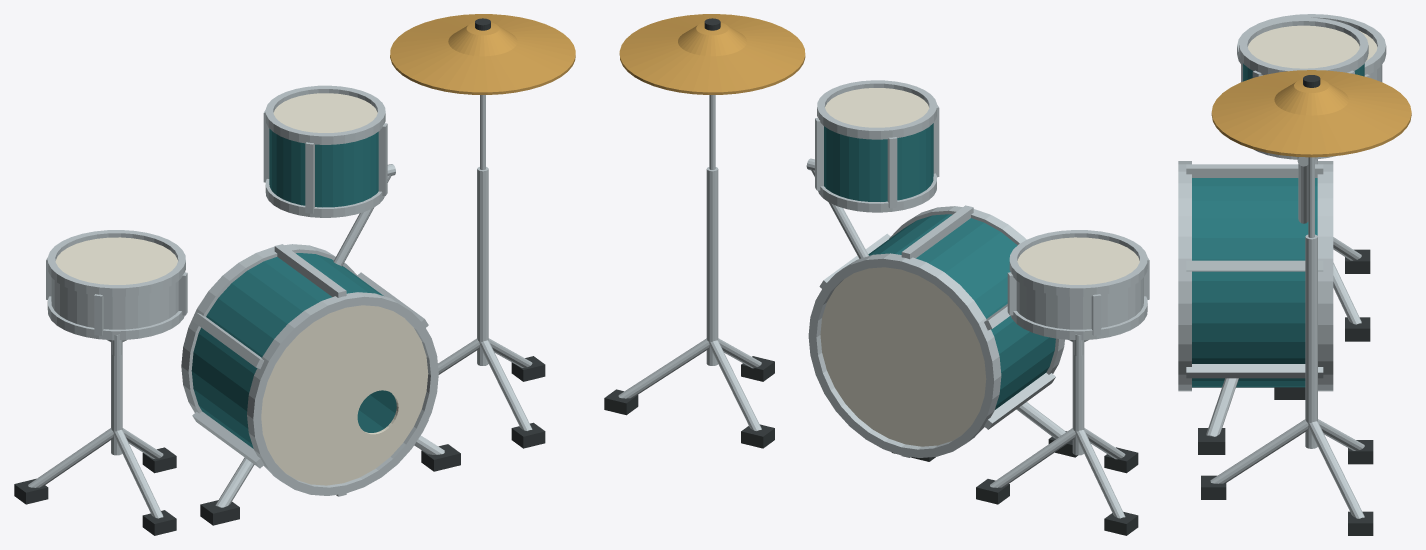
3 renders of one model, left to right at view 1: azimuth 30°, elevation 25°; view 2: azimuth 150°, elevation 25°; view 3: azimuth 270°, elevation 25°, orthographic. The views are drawn at different scales.
Visible parts, largest first — view 1: Bass_ThickPortedFrontHead, Bass_HollowTealShell, Cymbal_FormedThickBrass, Bass_FrontOpenHoop, Tom_HollowShell, Snare_ThickTopHead, Snare_HollowShell, Tom_ThickTopHead, Snare_TopOpenHoop, Tom_TopOpenHoop, Bass_RearOpenHoop, CymbalStand_LowerPost (+15 smaller); view 2: Bass_ThickRearHead, Cymbal_FormedThickBrass, Bass_HollowTealShell, Bass_RearOpenHoop, Tom_HollowShell, Snare_ThickTopHead, Snare_HollowShell, Tom_ThickTopHead, Snare_TopOpenHoop, Tom_TopOpenHoop, CymbalStand_LowerPost, Snare_BottomOpenHoop (+12 smaller); view 3: Bass_HollowTealShell, Cymbal_FormedThickBrass, Tom_ThickTopHead, Bass_RearOpenHoop, Bass_FrontOpenHoop, CymbalStand_LowerPost, Tom_TopOpenHoop, Bass_TensionLug_06, Bass_TensionLug_02, Bass_TensionLug_01, Snare_TopOpenHoop, CymbalStand_Leg_03 (+14 smaller).
Part boxes in pixels (x1=…): Bass_ThickPortedFrontHead: x1=261, y1=305, x2=428, y2=485; Bass_HollowTealShell: x1=191, y1=253, x2=396, y2=448; Cymbal_FormedThickBrass: x1=390, y1=14, x2=575, y2=94; Bass_FrontOpenHoop: x1=247, y1=292, x2=438, y2=495; Tom_HollowShell: x1=269, y1=128, x2=378, y2=207; Snare_ThickTopHead: x1=55, y1=237, x2=177, y2=284; Snare_HollowShell: x1=51, y1=277, x2=178, y2=329; Tom_ThickTopHead: x1=273, y1=93, x2=377, y2=132; Snare_TopOpenHoop: x1=47, y1=230, x2=185, y2=296; Tom_TopOpenHoop: x1=265, y1=85, x2=385, y2=144; Bass_RearOpenHoop: x1=181, y1=244, x2=359, y2=413; CymbalStand_LowerPost: x1=477, y1=167, x2=488, y2=365; Bass_ThickRearHead: x1=820, y1=267, x2=986, y2=446; Cymbal_FormedThickBrass: x1=619, y1=14, x2=805, y2=94; Bass_HollowTealShell: x1=868, y1=214, x2=1055, y2=409; Bass_RearOpenHoop: x1=808, y1=253, x2=1001, y2=457; Tom_HollowShell: x1=824, y1=123, x2=933, y2=201; Snare_ThickTopHead: x1=1017, y1=237, x2=1139, y2=284; Snare_HollowShell: x1=1016, y1=277, x2=1143, y2=329; Tom_ThickTopHead: x1=825, y1=88, x2=929, y2=127; Snare_TopOpenHoop: x1=1009, y1=230, x2=1147, y2=296; Tom_TopOpenHoop: x1=817, y1=80, x2=936, y2=139; CymbalStand_LowerPost: x1=706, y1=167, x2=718, y2=365; Snare_BottomOpenHoop: x1=1010, y1=296, x2=1147, y2=340; Bass_HollowTealShell: x1=1192, y1=178, x2=1317, y2=387; Cymbal_FormedThickBrass: x1=1211, y1=70, x2=1411, y2=157; Tom_ThickTopHead: x1=1248, y1=25, x2=1359, y2=68; Bass_RearOpenHoop: x1=1317, y1=161, x2=1333, y2=391; Bass_FrontOpenHoop: x1=1178, y1=161, x2=1191, y2=391; CymbalStand_LowerPost: x1=1305, y1=234, x2=1317, y2=448; Tom_TopOpenHoop: x1=1239, y1=17, x2=1368, y2=75; Bass_TensionLug_06: x1=1186, y1=364, x2=1323, y2=378; Bass_TensionLug_02: x1=1186, y1=164, x2=1323, y2=177; Bass_TensionLug_01: x1=1186, y1=260, x2=1323, y2=271; Snare_TopOpenHoop: x1=1237, y1=14, x2=1386, y2=74; CymbalStand_Leg_03: x1=1210, y1=419, x2=1308, y2=483.
Size of the model in its own units: 1.65 by 1.17 by 0.595.
